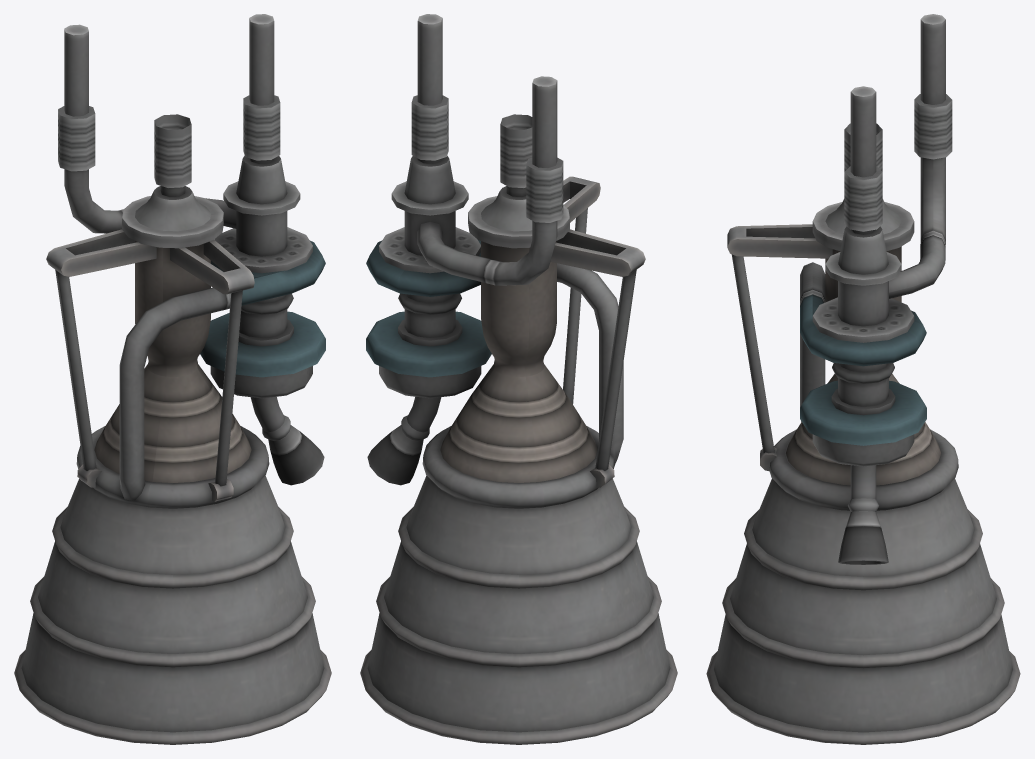
File: black_anvil_engine_s1_1.obj
The picture shows the model from 3 angles, left to right: view 1: azimuth 30°, elevation 25°; view 2: azimuth 150°, elevation 25°; view 3: azimuth 270°, elevation 25°; orthographic projection.
Visible parts, largest first — view 1: mesh2; view 2: mesh2; view 3: mesh2.
Part boxes in pixels (box(x1,y1,x2,y2)): mesh2: box(14, 14, 331, 744); mesh2: box(360, 14, 677, 744); mesh2: box(706, 14, 1020, 744).
Bounding box in the file's own units: 0.6423 × 1.37 × 0.6195.
Materials: 1 (1 with a texture image).
